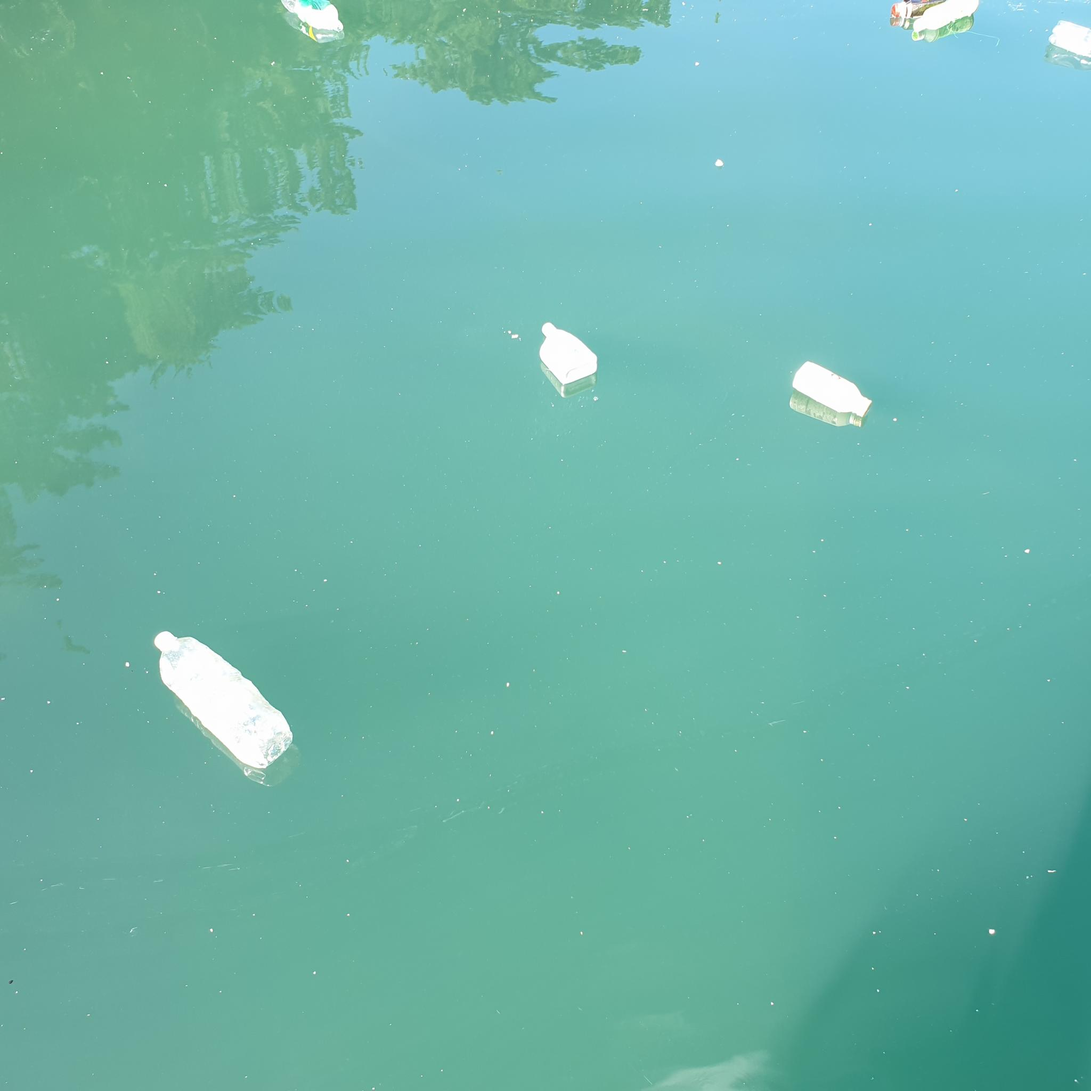sampah_terapung: (154, 631, 293, 769), (793, 361, 873, 418), (540, 323, 598, 385), (281, 1, 344, 33), (914, 1, 979, 32), (1049, 20, 1091, 58), (892, 1, 948, 19)
